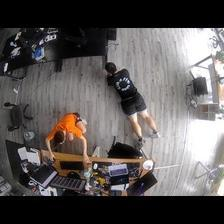fall: (107, 63, 162, 141)
normal: (42, 108, 89, 158)
